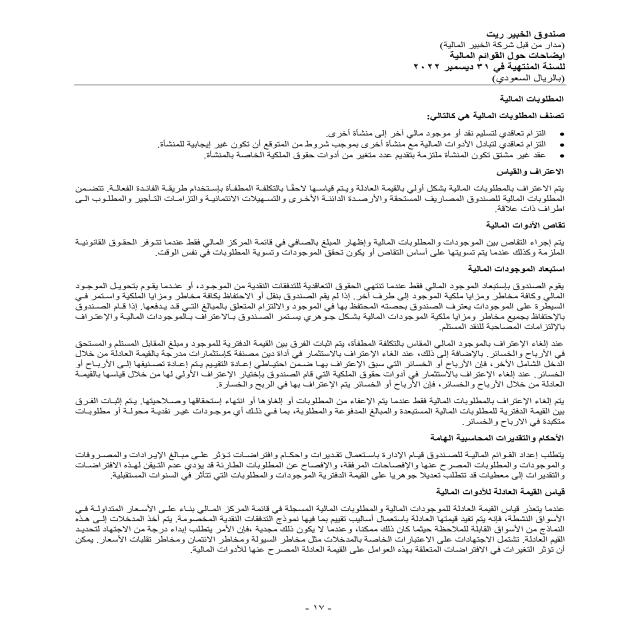notes: (436, 52, 573, 61)
text: (19, 91, 575, 568)
